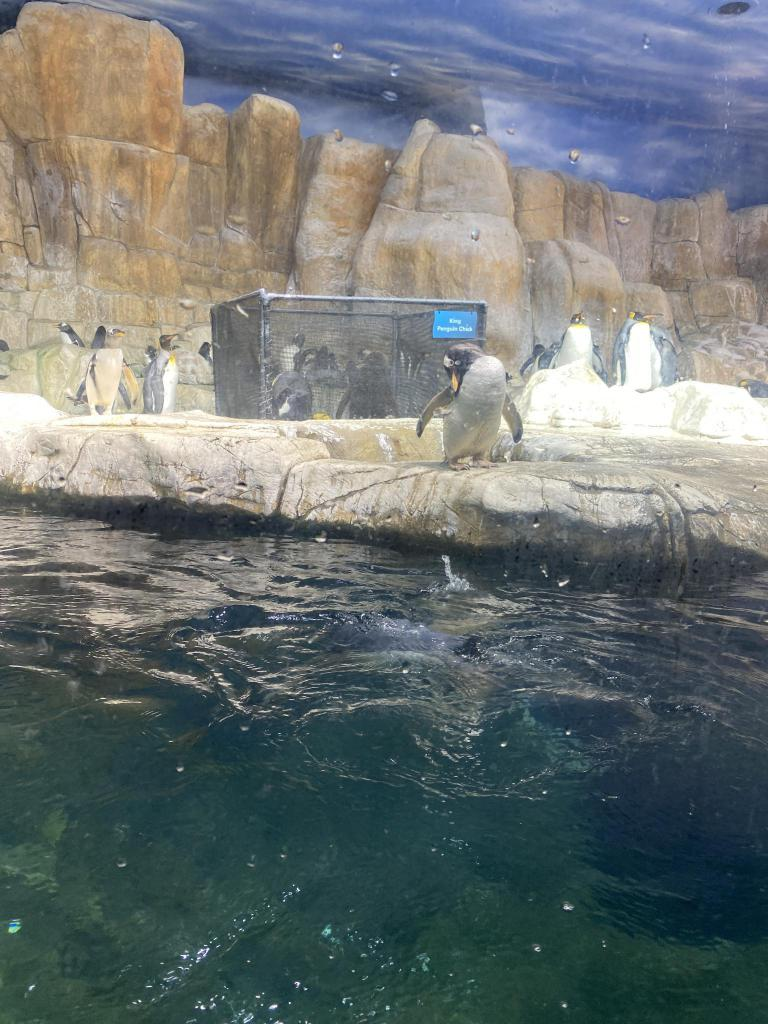penguin: (416, 344, 522, 470), (306, 610, 488, 672), (67, 328, 139, 412), (336, 346, 396, 418), (609, 308, 657, 394), (552, 312, 604, 388), (142, 332, 178, 410), (273, 370, 311, 416), (647, 327, 675, 387), (522, 343, 556, 373), (280, 332, 302, 370), (54, 320, 82, 348), (736, 376, 768, 398)
